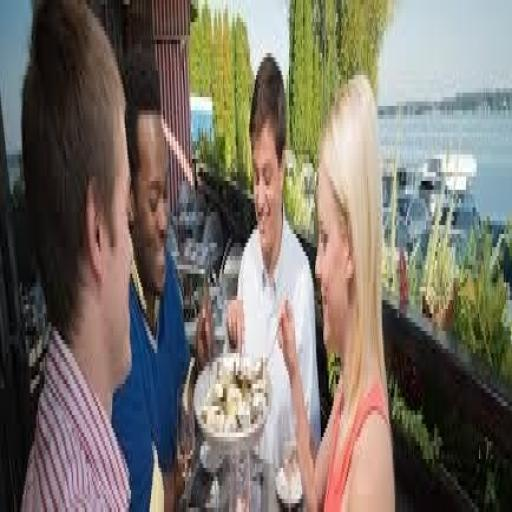eating: (15, 0, 401, 508), (15, 0, 138, 508), (276, 66, 398, 508), (111, 48, 213, 508), (224, 49, 322, 481)
